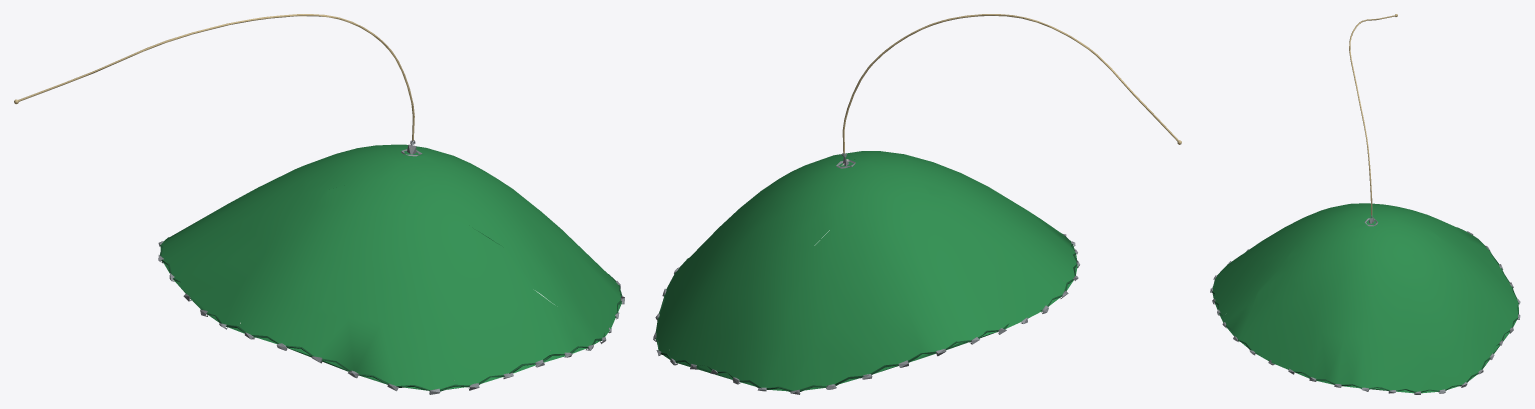
File: f_nelayan_jaring_lempar.glb
3 views of the same model, side by side, from view 1: azimuth 30°, elevation 25°; view 2: azimuth 150°, elevation 25°; view 3: azimuth 270°, elevation 25° (orthographic). The views are drawn at different scales.
Parts seen in each view (by area): view 1: nylon_green, rope_hemp, lead, leadline_cord; view 2: nylon_green, rope_hemp, lead, leadline_cord; view 3: nylon_green, lead, leadline_cord, rope_hemp.
Part boxes in pixels (x1,y1,x2,y2): nylon_green: [160, 144, 621, 390]; rope_hemp: [14, 14, 414, 140]; lead: [158, 140, 624, 394]; leadline_cord: [160, 237, 622, 391]; nylon_green: [655, 151, 1077, 391]; rope_hemp: [842, 14, 1181, 153]; lead: [653, 153, 1079, 394]; leadline_cord: [655, 235, 1077, 391]; nylon_green: [1212, 203, 1518, 393]; lead: [1210, 215, 1520, 394]; leadline_cord: [1212, 227, 1518, 392]; rope_hemp: [1349, 14, 1397, 215].
Bounding box in the file's own units: 4.26 × 2.7 × 3.06.
